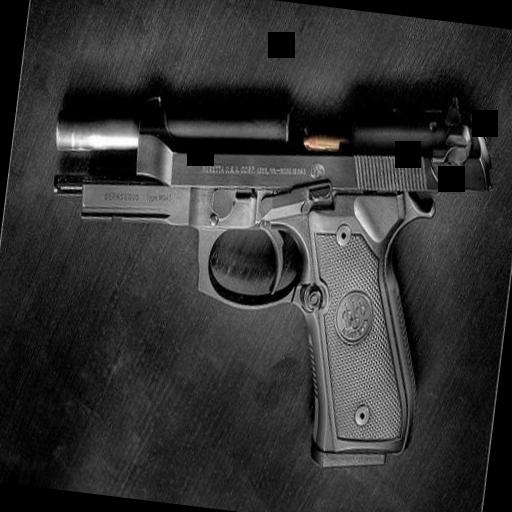Handgun: (13, 62, 500, 492)
